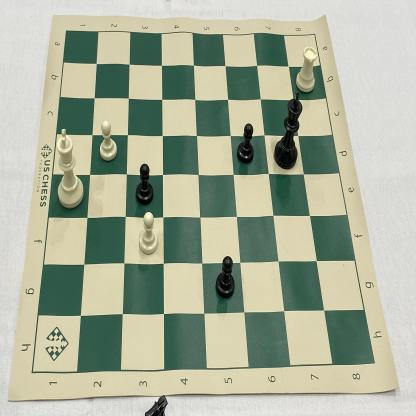black-king: (271, 94, 303, 173)
black-pawn: (213, 251, 239, 302), (133, 160, 157, 207), (235, 118, 256, 167)
white-king: (50, 124, 88, 210)
white-pawn: (136, 210, 162, 257), (95, 119, 120, 165)
white-rook: (295, 44, 319, 95)
